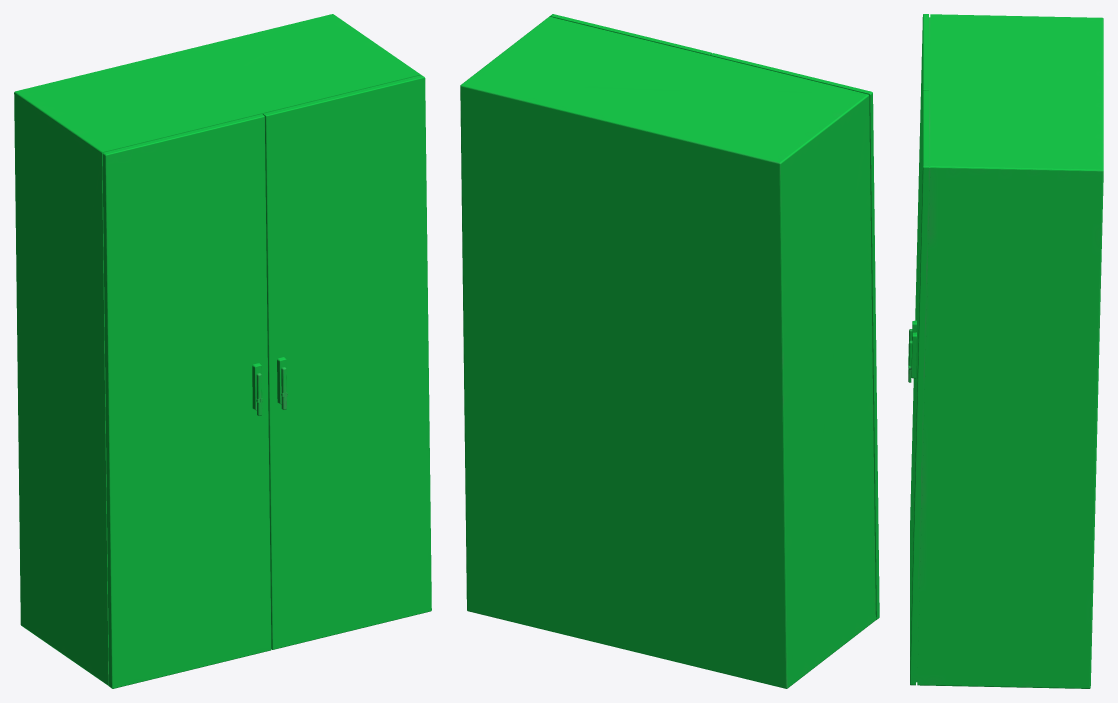
Rendered from PainelModular .glb.
The picture shows the model from 3 angles, left to right: view 1: azimuth 30°, elevation 25°; view 2: azimuth 150°, elevation 25°; view 3: azimuth 270°, elevation 25°; orthographic projection. The views are drawn at different scales.
Visible parts, largest first — view 1: node_id3; view 2: node_id3; view 3: node_id3.
Part boxes in pixels (box(x1,y1,x2,y2)): node_id3: box(14, 14, 431, 688); node_id3: box(460, 14, 879, 688); node_id3: box(908, 14, 1103, 688).
Bounding box in the file's own units: 0.3236 × 0.5155 × 0.1748.
1 material, 1 textured.
